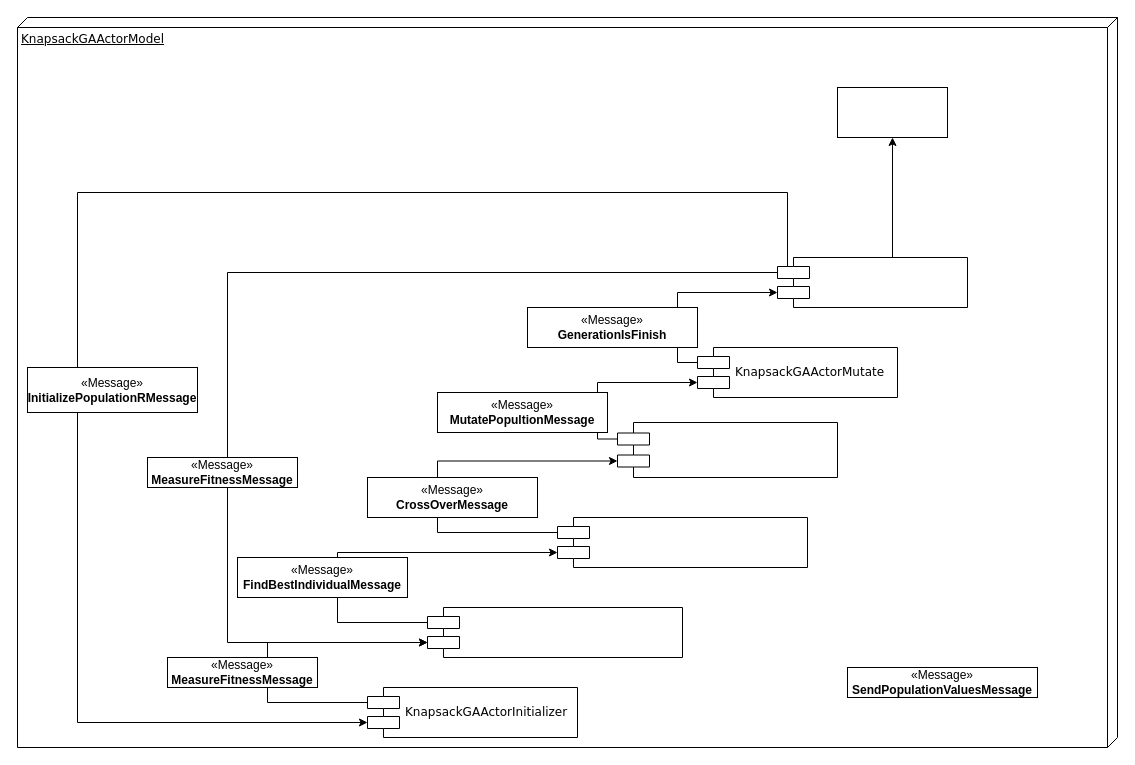
This 1135x765 diagram has some shape labels left out. The box of each missing label's shape, as (x1, y1, x2, y2) in pixels:
KnapsackGAActorBestIndividual: (556, 516, 808, 568)
KnapsackGAActorCrossOver: (616, 422, 838, 478)
KnapsackGAActorMeasureFitness: (426, 606, 682, 658)
KnapsackGAManager: (776, 256, 968, 308)
Main: (836, 86, 948, 138)
